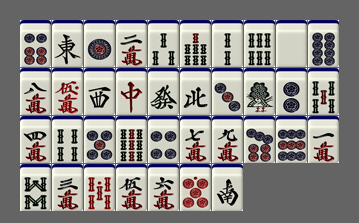0m: (52, 68, 83, 115)
0p: (180, 164, 211, 211)
0s: (84, 164, 115, 211)
1m: (308, 116, 339, 163)
1p: (84, 20, 115, 67)
1s: (244, 68, 275, 115)
1z: (52, 20, 83, 67)
2m: (116, 20, 147, 67)
2p: (276, 68, 307, 115)
2s: (212, 20, 243, 67)
2z: (212, 164, 243, 211)
3m: (52, 164, 83, 211)
3p: (212, 68, 243, 115)
3s: (148, 20, 179, 67)
3z: (84, 68, 115, 115)
4m: (20, 116, 51, 163)
4p: (148, 116, 179, 163)
4s: (52, 116, 83, 163)
4z: (180, 68, 211, 115)
5m: (116, 164, 147, 211)
5p: (84, 116, 115, 163)
5s: (308, 68, 339, 115)
5z: (276, 20, 307, 67)
6m: (148, 164, 179, 211)
6p: (20, 20, 51, 67)
6s: (244, 20, 275, 67)
6z: (148, 68, 179, 115)
7m: (180, 116, 211, 163)
7p: (244, 116, 275, 163)
7s: (180, 20, 211, 67)
7z: (116, 68, 147, 115)
8m: (20, 68, 51, 115)
8p: (308, 20, 339, 67)
8s: (20, 164, 51, 211)
9m: (212, 116, 243, 163)
9p: (276, 116, 307, 163)
9s: (116, 116, 147, 163)
